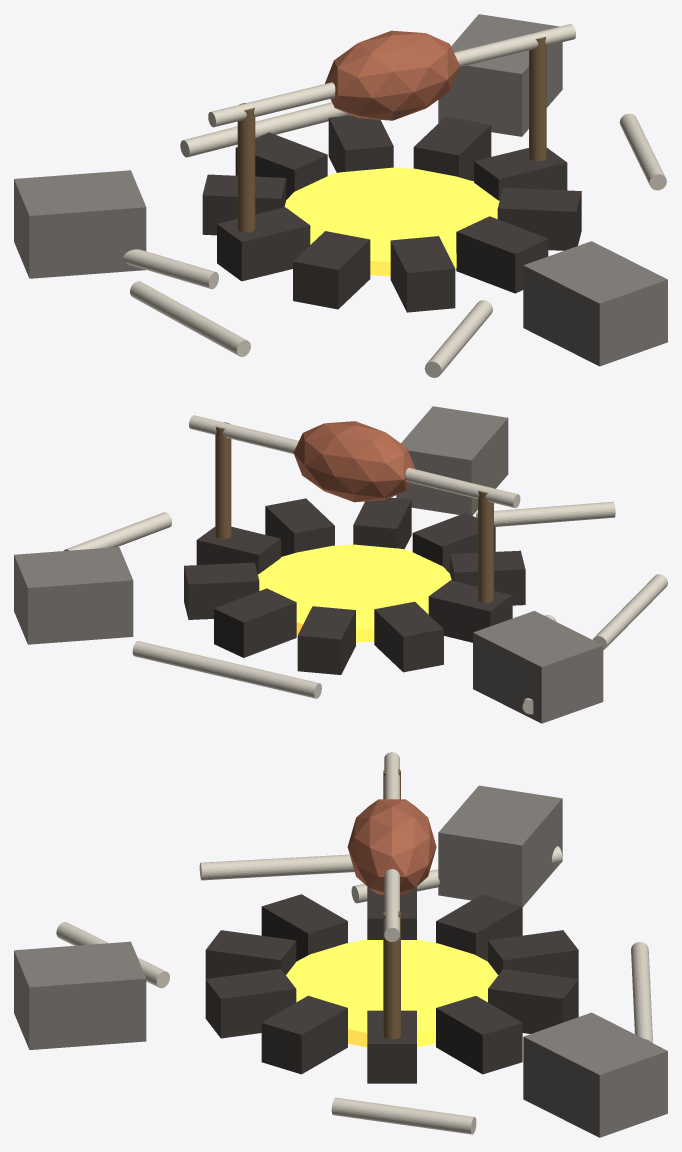
Rendered from feastpit.glb.
The picture shows the model from 3 angles, top to bottom: view 1: azimuth 30°, elevation 25°; view 2: azimuth 150°, elevation 25°; view 3: azimuth 270°, elevation 25°; orthographic projection. The views are drawn at different scales.
Parts seen in each view (by area): view 1: Cube.012, Cylinder, Cube.011, Icosphere, Cube.010, Cube.005, Cube.008, Cube.006, Cube.007, Cube.009, Cylinder.003, Cube.001 (+11 smaller); view 2: Cube.011, Cylinder, Cube.010, Cube.012, Icosphere, Cube.002, Cube.004, Cube.003, Cube.005, Cube.001, Cylinder.003, Cylinder.008 (+10 smaller); view 3: Cube.010, Cube.012, Cube.011, Cylinder, Icosphere, Cube.001, Cube.009, Cube.008, Cube.002, Cube.006, Cube.004, Cube.007 (+10 smaller).
Boxes of the visible parts, x1,y1,x2,y2 form: Cube.012: (523, 241, 667, 366); Cylinder: (284, 167, 499, 276); Cube.011: (14, 170, 146, 278); Icosphere: (325, 30, 459, 120); Cube.010: (438, 14, 562, 136); Cube.005: (217, 207, 310, 281); Cube.008: (456, 216, 548, 293); Cube.006: (293, 231, 370, 309); Cube.007: (390, 236, 455, 312); Cube.009: (497, 187, 581, 250); Cylinder.003: (208, 24, 575, 127); Cube.001: (413, 116, 491, 180); Cube.011: (473, 611, 603, 723); Cylinder: (258, 544, 451, 642); Cube.010: (14, 547, 133, 644); Cube.012: (396, 406, 508, 515); Icosphere: (293, 421, 414, 502); Cube.002: (214, 588, 296, 657); Cube.004: (374, 601, 443, 672); Cube.003: (297, 606, 355, 674); Cube.005: (428, 580, 512, 642); Cube.001: (184, 562, 259, 619); Cylinder.003: (189, 415, 520, 508); Cylinder.008: (132, 641, 321, 698); Cube.010: (523, 1012, 667, 1137); Cube.012: (14, 941, 146, 1050); Cube.011: (438, 785, 562, 906); Cylinder: (286, 939, 498, 1047); Icosphere: (347, 799, 436, 894); Cube.001: (436, 996, 522, 1074); Cube.009: (261, 995, 347, 1074); Cube.008: (205, 969, 296, 1038); Cube.002: (488, 969, 578, 1033); Cube.006: (261, 894, 347, 961); Cube.004: (436, 894, 522, 961); Cube.007: (205, 930, 296, 978).
Bounding box in the file's own units: 7.04 × 2.2 × 6.61.
